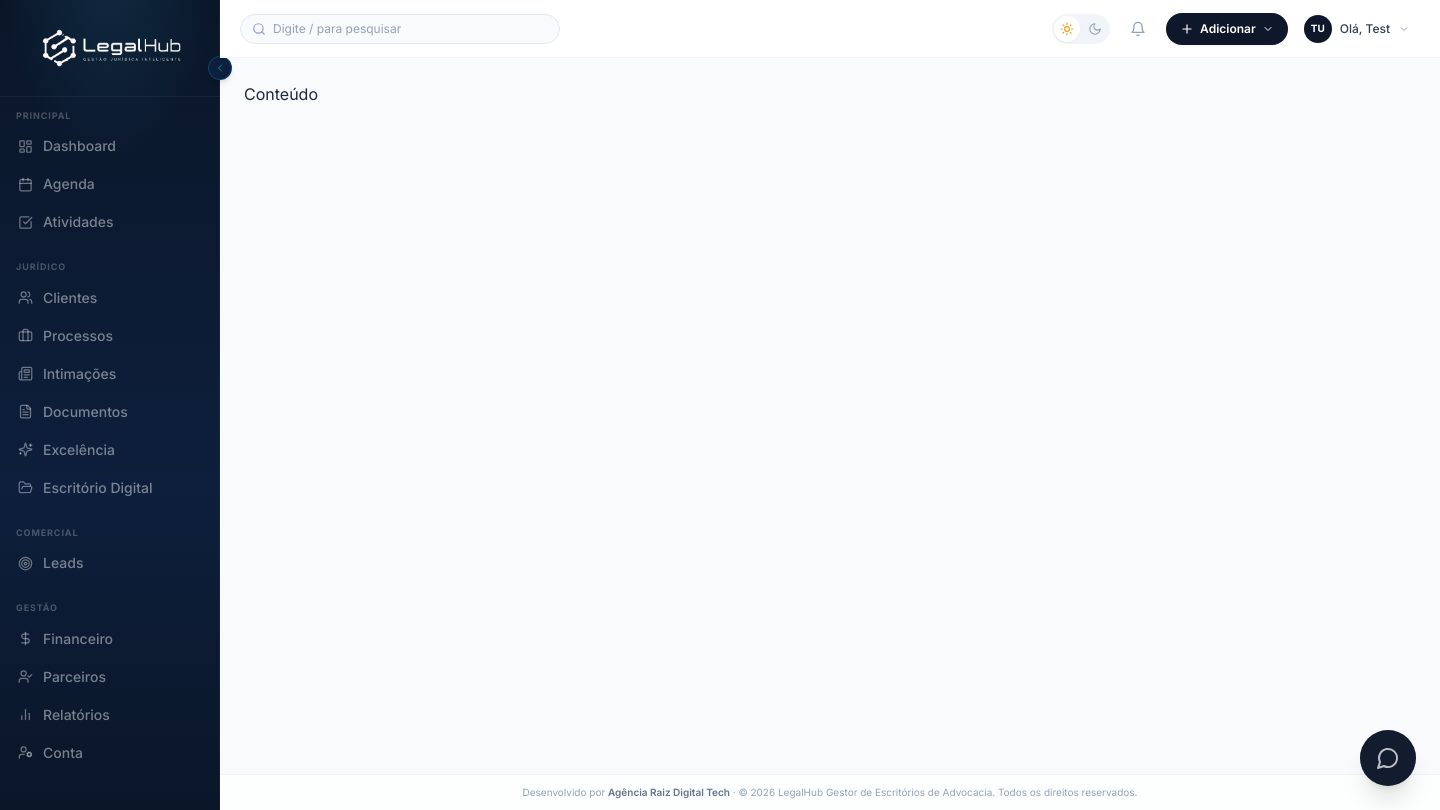
it: Layout — botão de notificações › fecha o dropdown ao clicar no sino novamente
This screenshot has width=1440, height=810.
Click the button titled "Notificações" at (1138, 28), box x1=1122 y1=12 x2=1154 y2=44
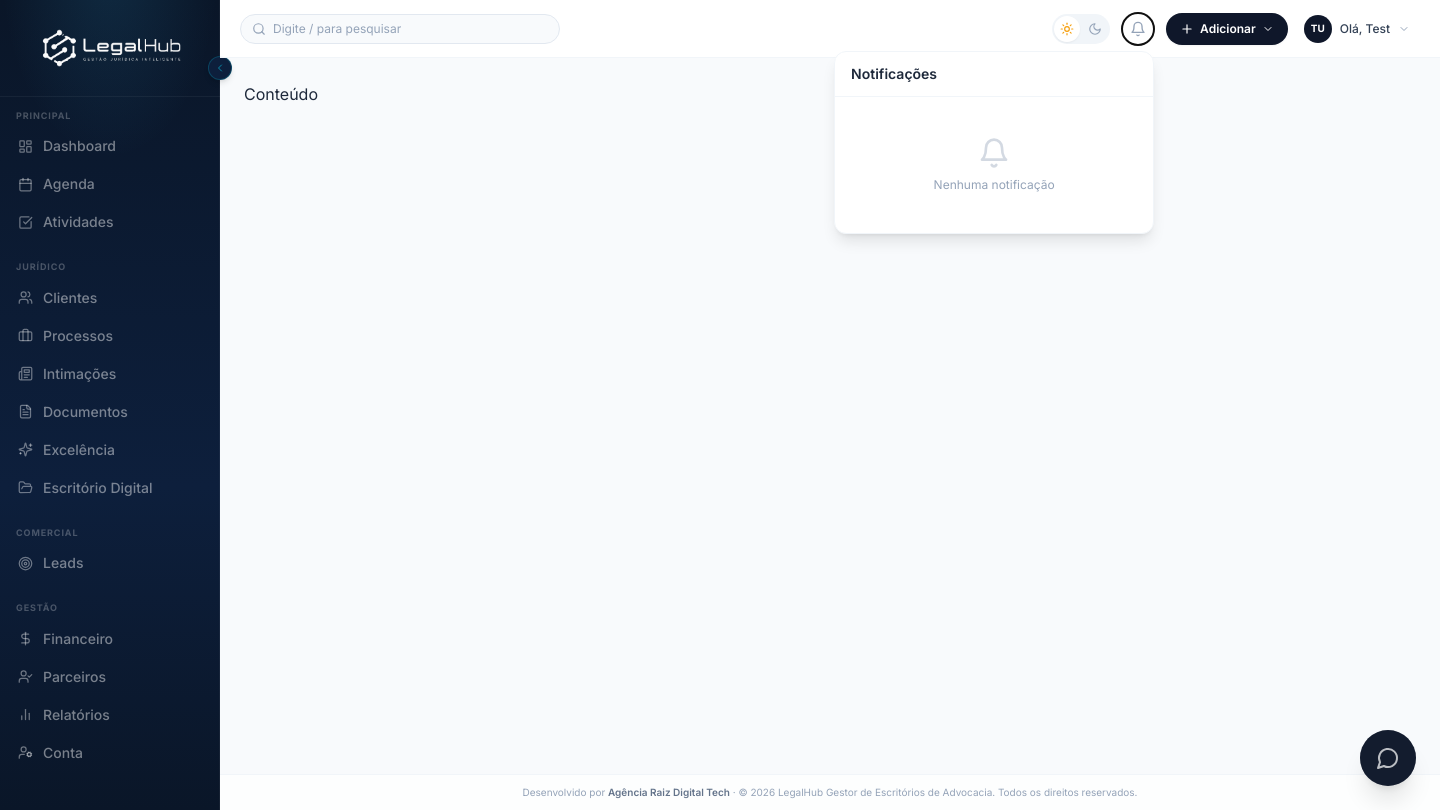
Click the button titled "Notificações" at (1138, 28), box x1=1122 y1=12 x2=1154 y2=44
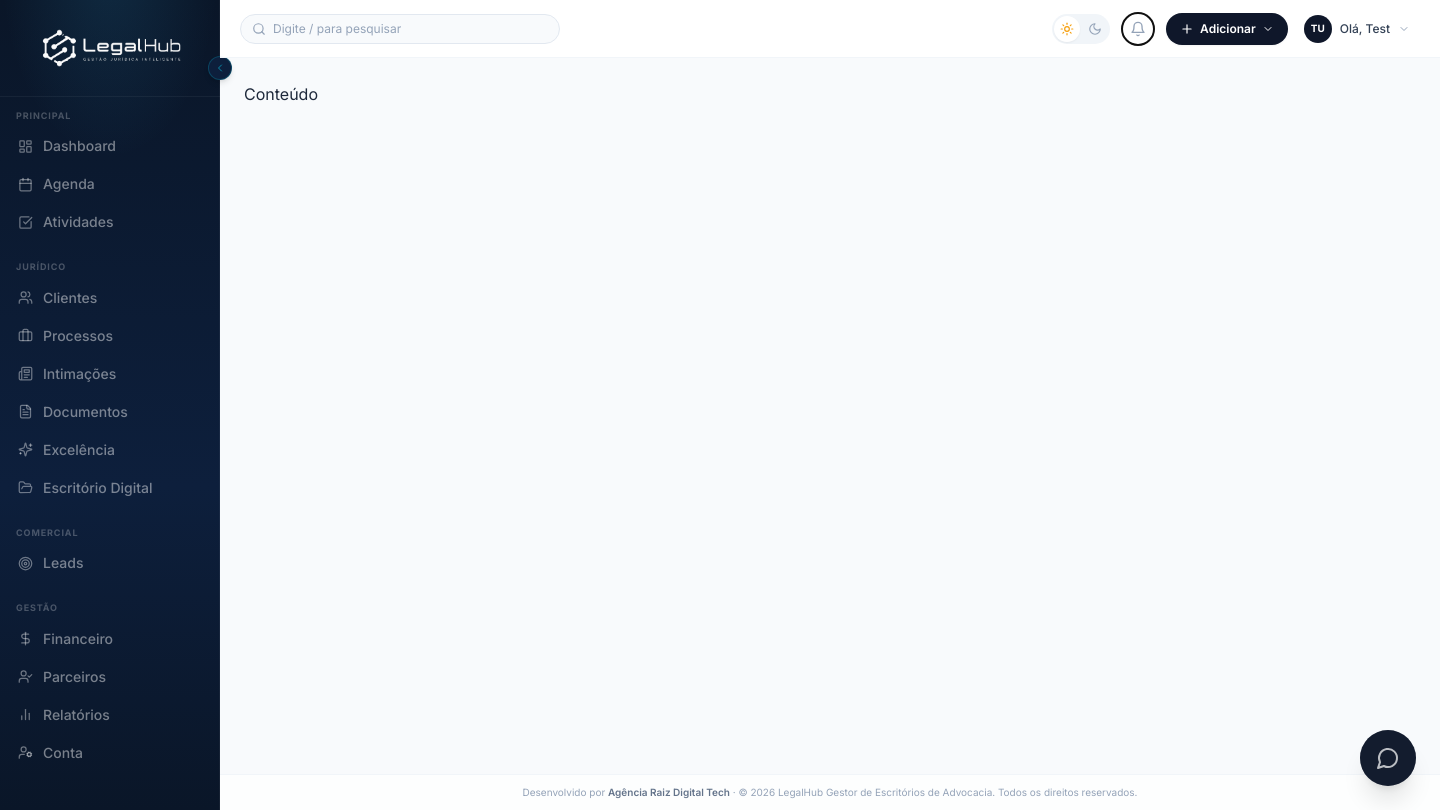
Now the text "Nenhuma notificação" is gone
